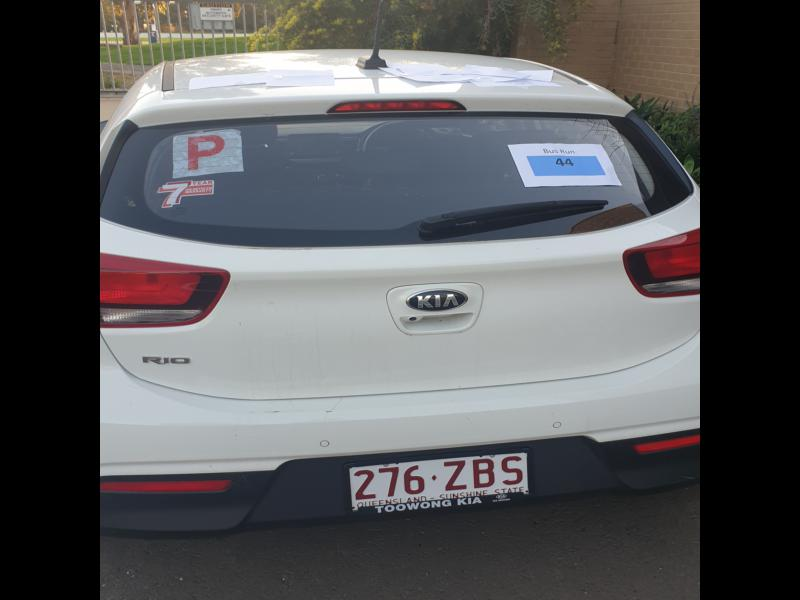BusRun: (529, 153, 604, 178)
PlateNo: (348, 451, 529, 515)
